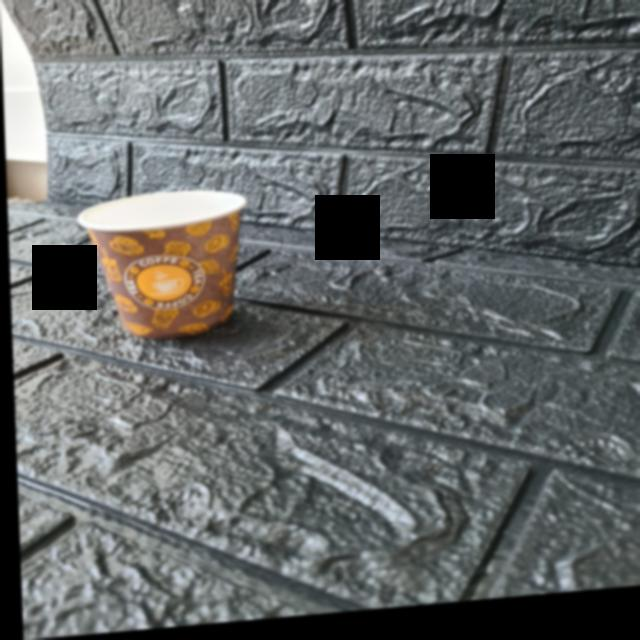cups: (76, 192, 251, 345)
